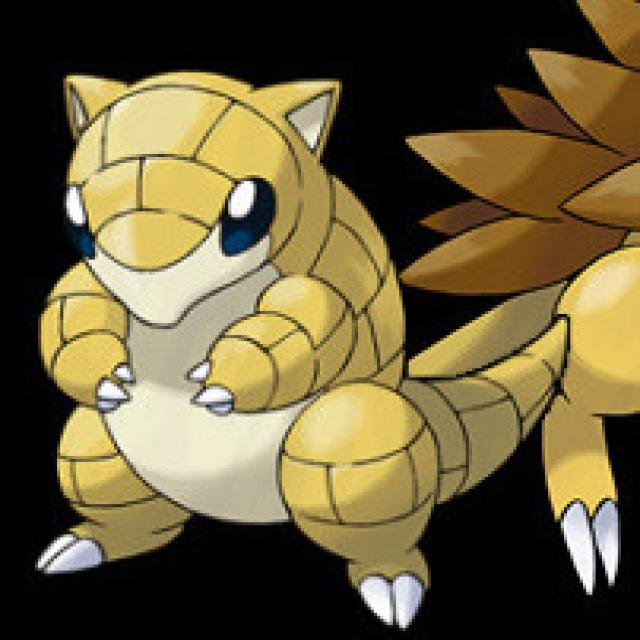Sandshrew: (42, 65, 437, 590)
